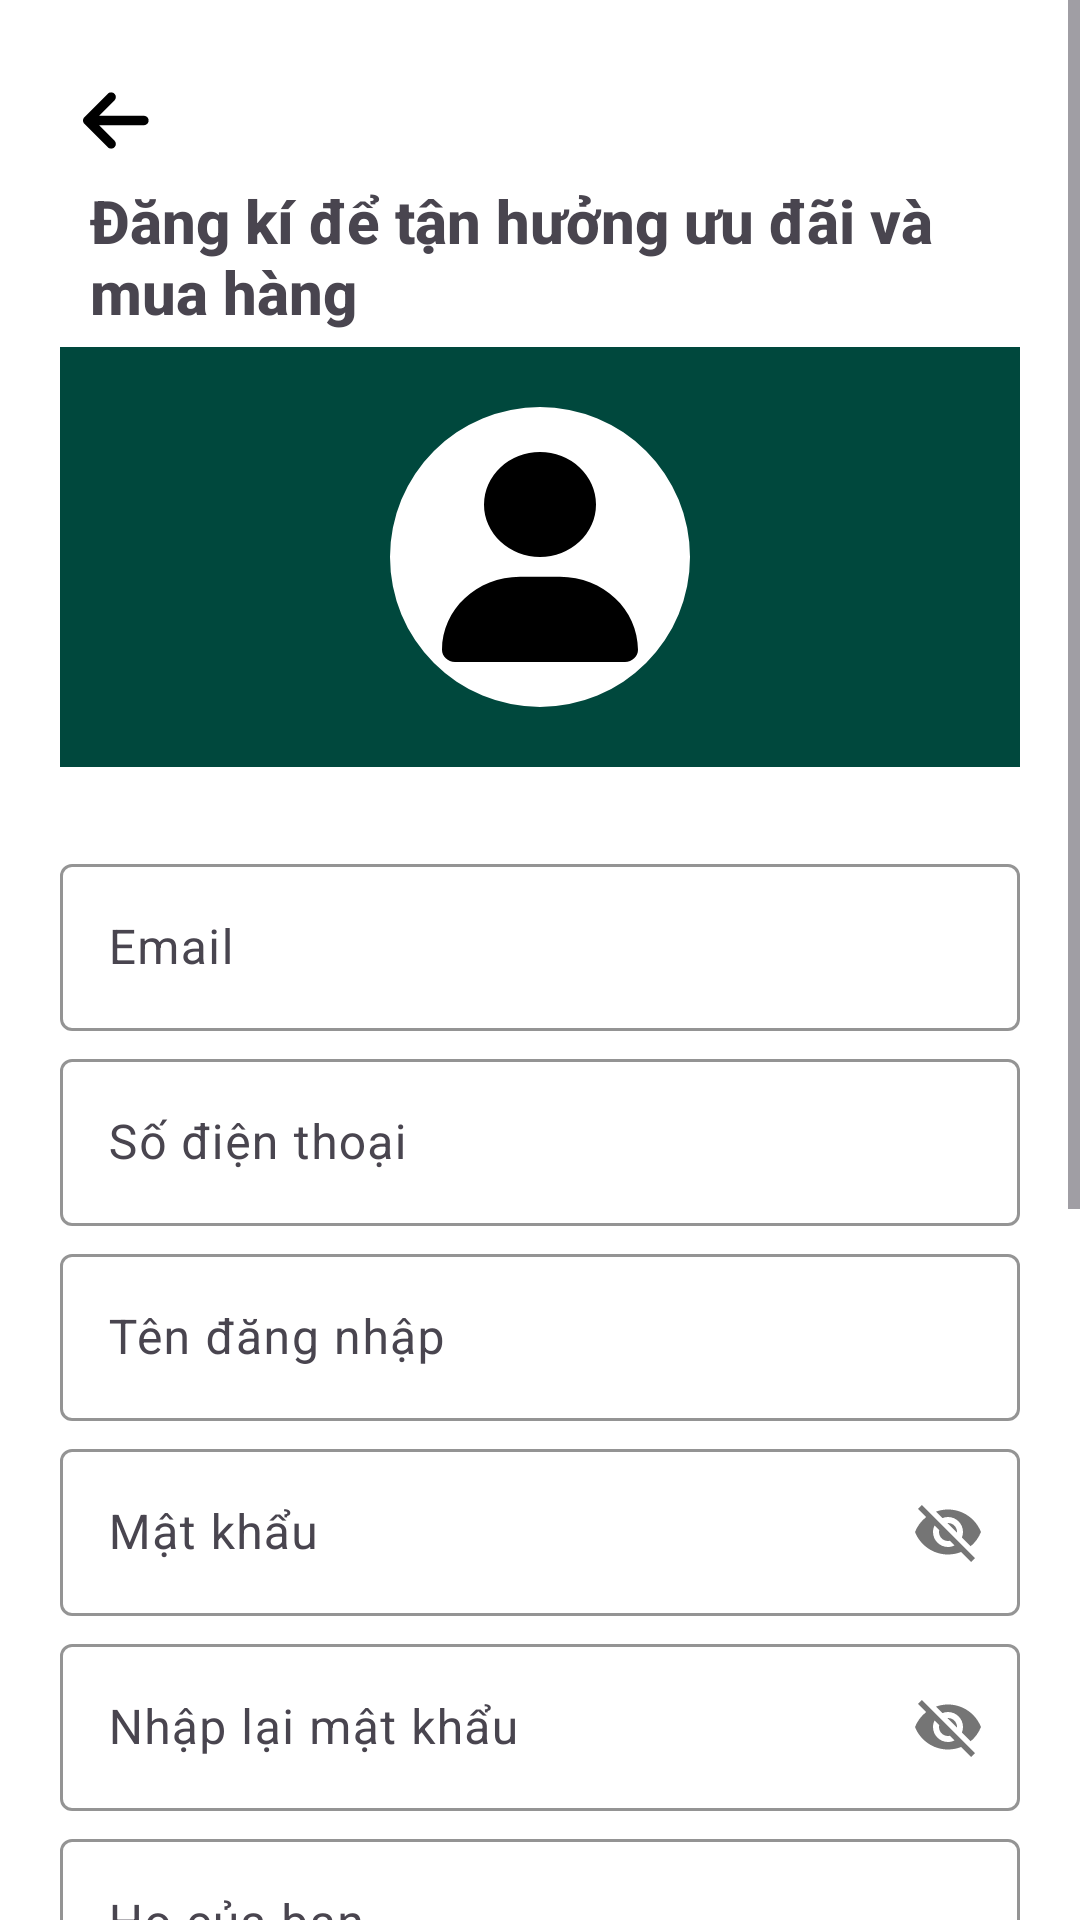

Screen size 1080px x 1920px. Icon name, then its center in pixels as point (x, y):
Back: point (116, 120)
user: point (540, 557)
